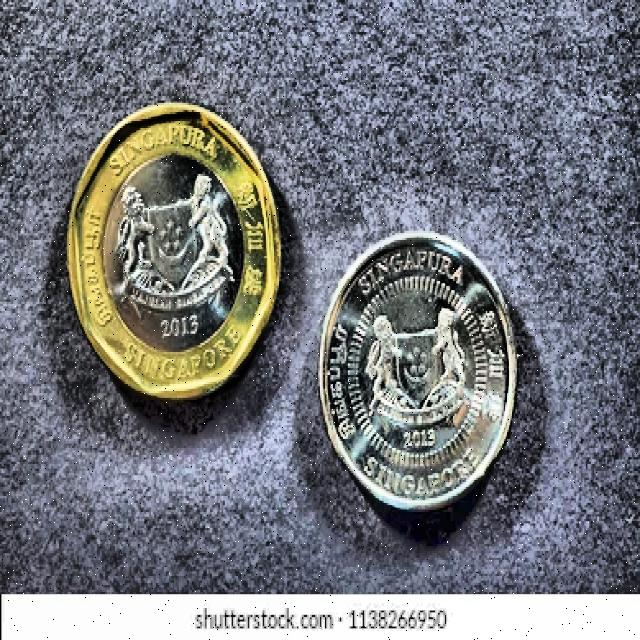coin: (67, 103, 279, 398)
